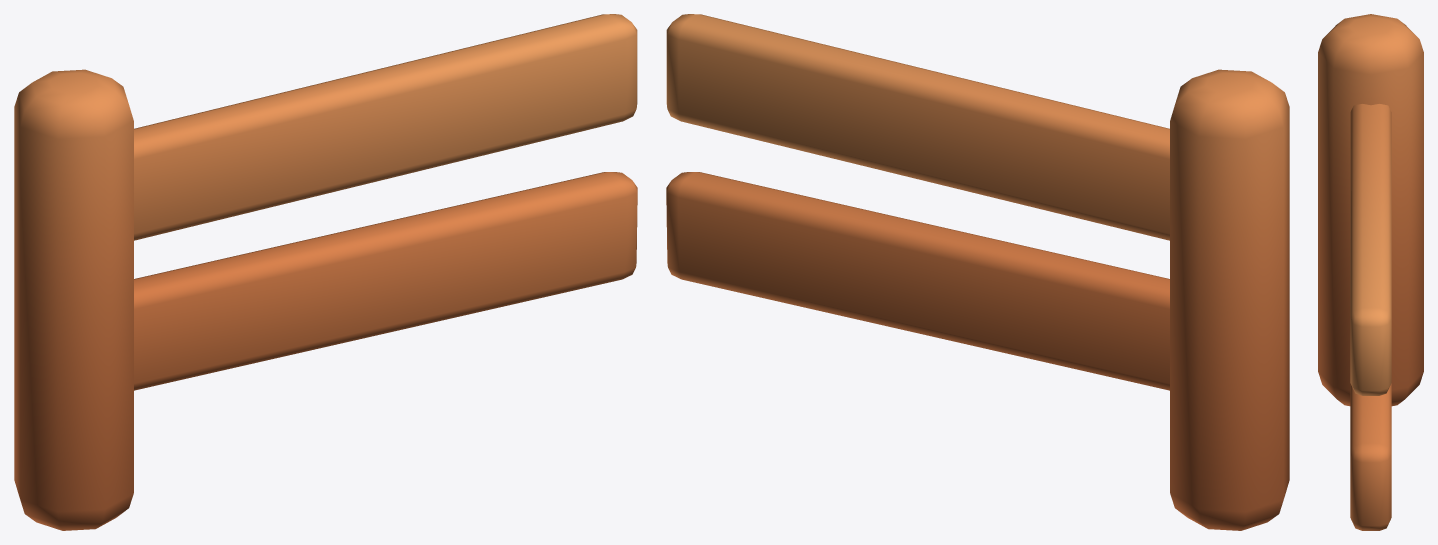
File: rail 01.fbx
3 views of the same model, side by side, from view 1: azimuth 30°, elevation 25°; view 2: azimuth 150°, elevation 25°; view 3: azimuth 270°, elevation 25° (orthographic). The views are drawn at different scales.
Parts seen in each view (by area): view 1: rail01; view 2: rail01; view 3: rail01.
Part boxes in pixels (x1,y1,x2,y2): rail01: [14, 14, 637, 530]; rail01: [666, 14, 1289, 530]; rail01: [1318, 14, 1423, 530].
Bounding box in the file's own units: 1.89 × 1.28 × 0.3318.
Materials: 1 (1 with a texture image).
